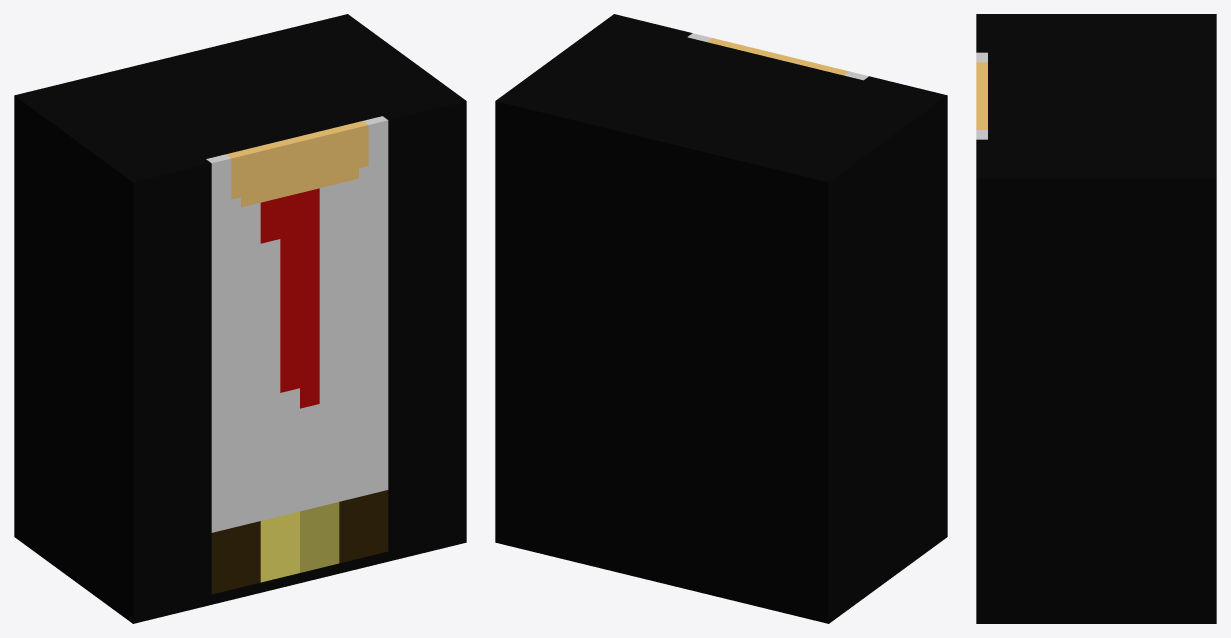
The model's file is coolboy-0.obj.
3 views of the same model, side by side, from view 1: azimuth 30°, elevation 25°; view 2: azimuth 150°, elevation 25°; view 3: azimuth 270°, elevation 25° (orthographic).
Bounding box in the file's own units: 3.4 × 4.3 × 2.1.
Materials: 1 (1 with a texture image).
